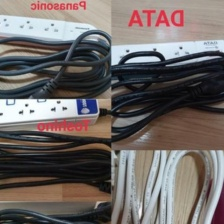three_eye_plug: (108, 37, 223, 82), (0, 88, 104, 137), (0, 11, 105, 53)
